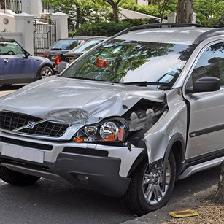broken_light: (59, 112, 160, 162)
dent: (37, 99, 94, 142)
